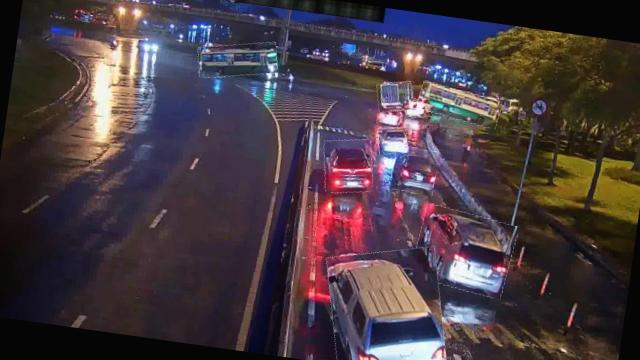Bus: (196, 35, 280, 84), (416, 82, 502, 127)
Car: (317, 237, 454, 360), (410, 204, 518, 297), (320, 134, 378, 198), (388, 144, 438, 195), (375, 124, 409, 156), (376, 104, 407, 128), (402, 97, 433, 121)
Truck: (374, 78, 415, 115)
